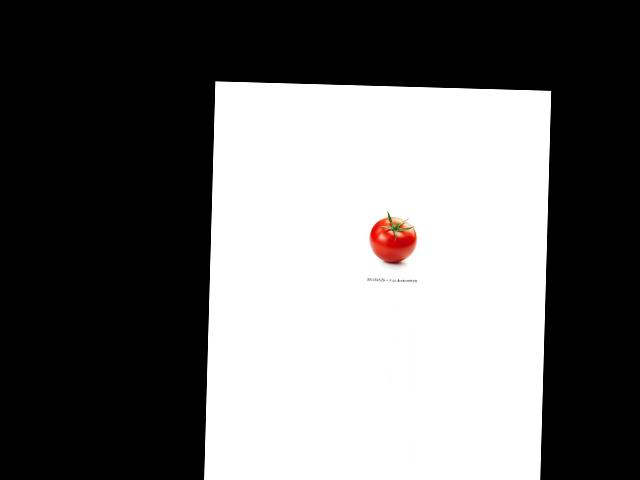tomato: (369, 216, 416, 263)
